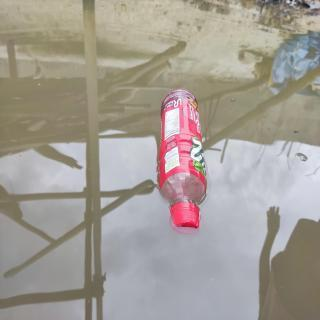bottle: (155, 85, 210, 236)
